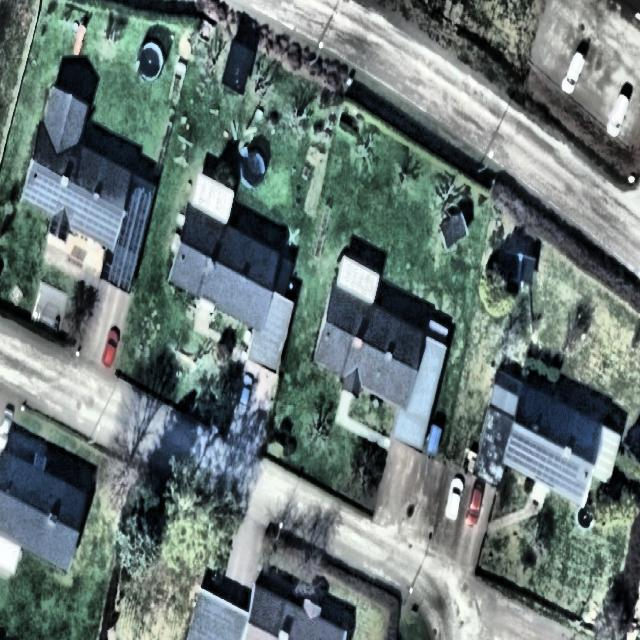roof_pv: (504, 427, 551, 475), (74, 199, 120, 245), (550, 455, 590, 506), (21, 174, 62, 210), (57, 187, 79, 216)
